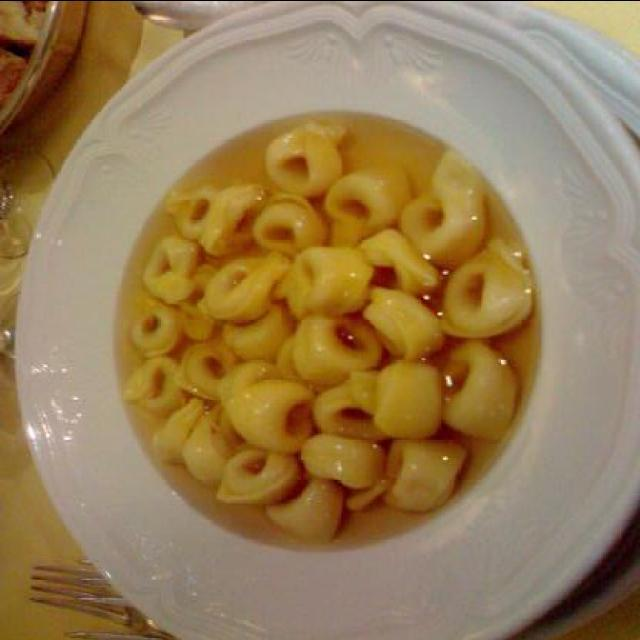Tortellini in broth: (115, 124, 538, 522)
